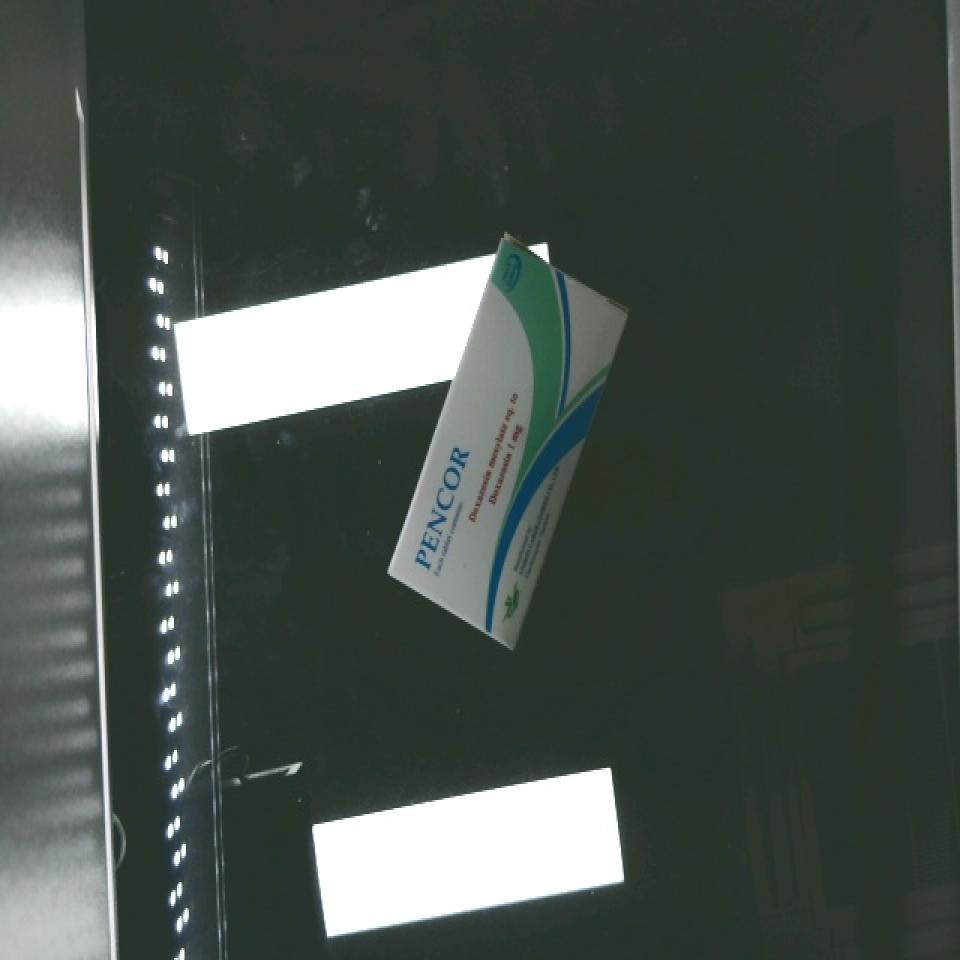medicine_box: (375, 235, 643, 652)
medicine_label_obb: (392, 417, 491, 592)
